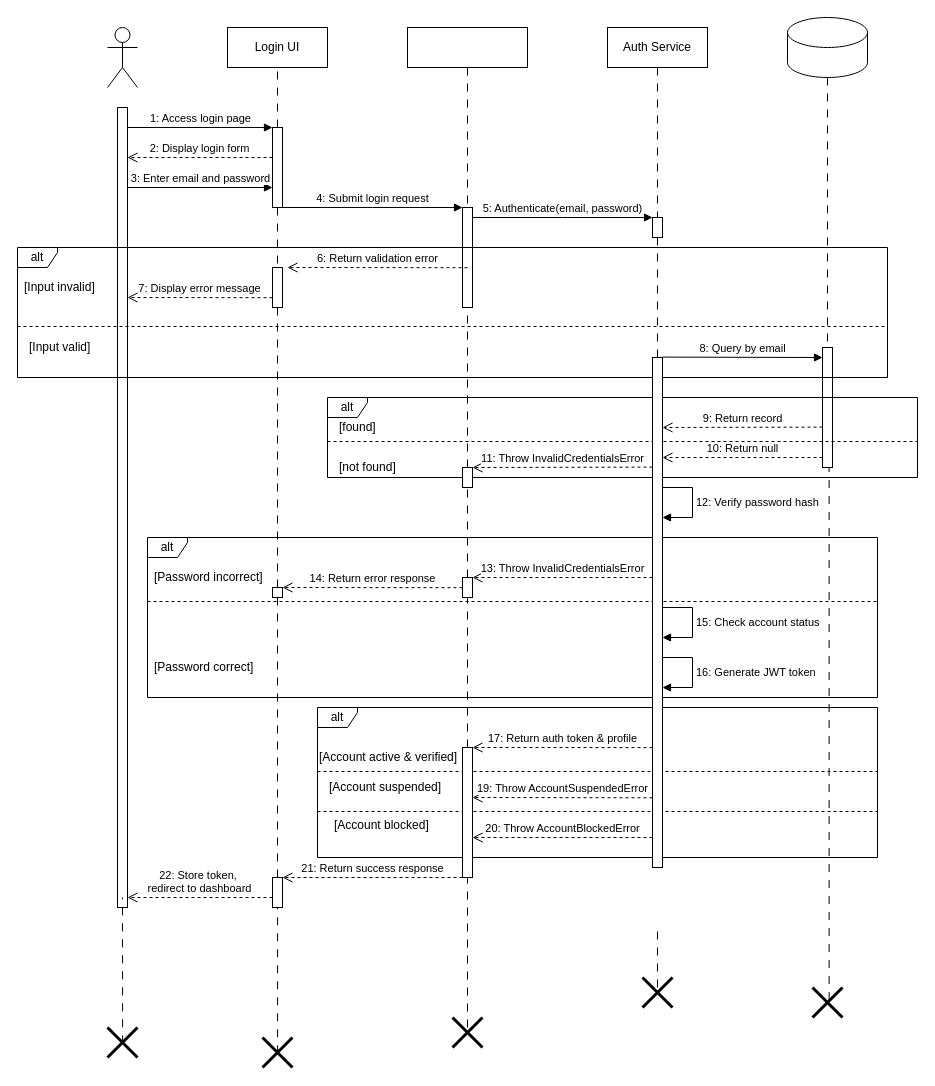
This 935x1086 diagram has some shape labels left out. Each missing label, with the centre of its shape:
"Auth Controller" goes at point 467,47.
"Database" goes at point 827,47.
"Super Admin" goes at point 122,57.
